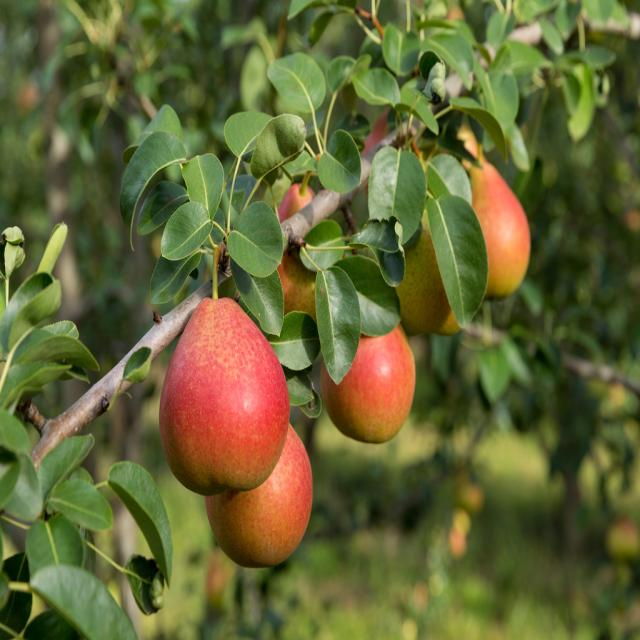Healty Apple: (322, 326, 414, 450)
